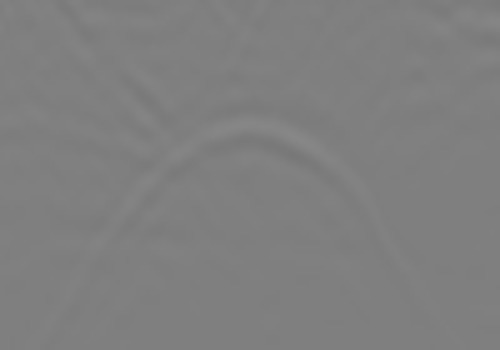hyperbola: (63, 115, 430, 321)
